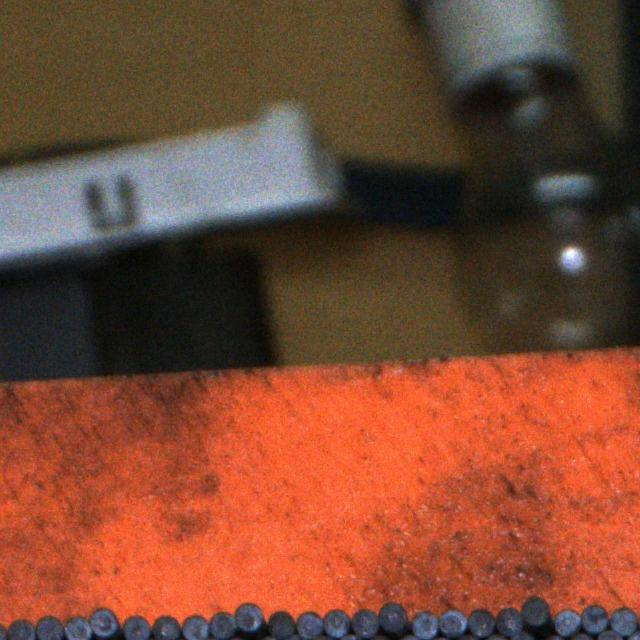tool: (378, 600, 407, 632), (521, 595, 550, 625), (235, 600, 263, 630), (268, 609, 296, 639), (90, 607, 118, 637), (580, 603, 608, 632), (208, 611, 236, 640), (495, 606, 523, 635), (350, 609, 378, 638), (439, 609, 467, 638), (296, 609, 324, 637), (325, 608, 351, 638), (468, 609, 495, 637), (611, 607, 638, 635), (412, 610, 438, 639), (152, 615, 182, 640), (182, 614, 210, 640), (554, 607, 580, 635), (123, 614, 150, 640), (37, 615, 65, 640), (63, 616, 91, 640), (6, 618, 34, 640), (595, 629, 622, 640), (509, 630, 537, 640), (567, 633, 593, 640), (308, 634, 336, 640), (398, 634, 426, 640), (452, 634, 480, 640), (365, 634, 393, 640), (339, 634, 365, 640), (483, 634, 509, 640), (541, 634, 567, 640), (282, 634, 307, 640), (626, 630, 640, 640), (255, 635, 283, 640), (0, 621, 7, 640)
